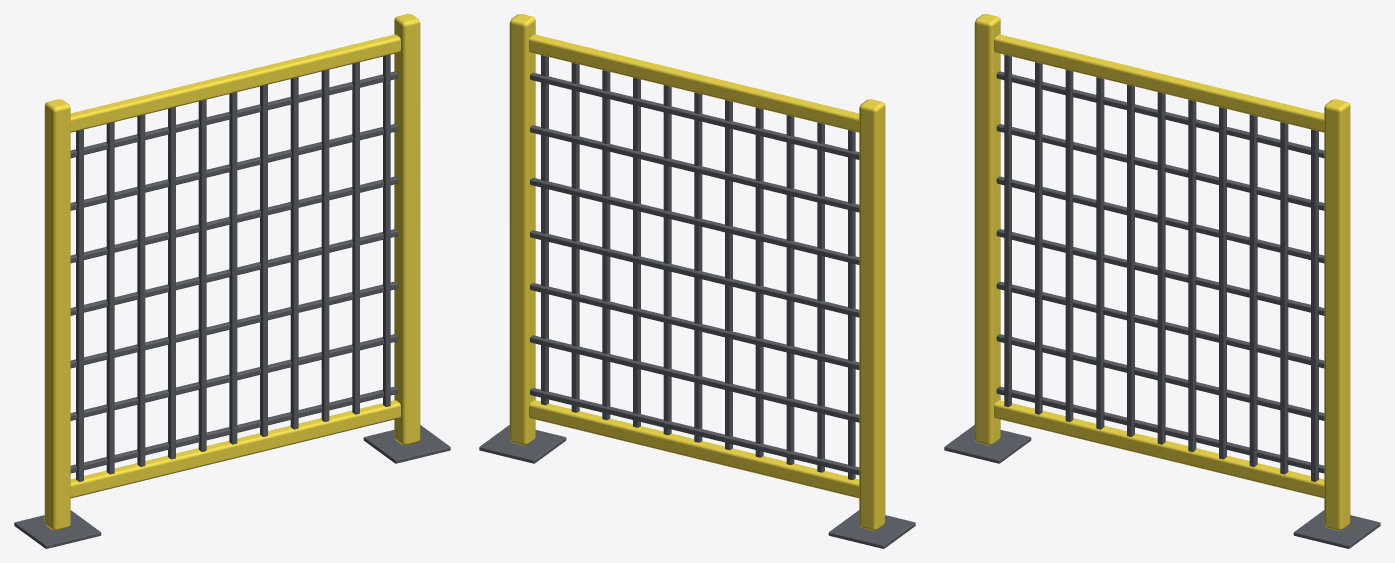
Rendered from robot-fence-panel.glb.
3 renders of one model, left to right at view 1: azimuth 30°, elevation 25°; view 2: azimuth 150°, elevation 25°; view 3: azimuth 330°, elevation 25°, orthographic.
Visible parts, largest first — view 1: robot-fence-panel; view 2: robot-fence-panel; view 3: robot-fence-panel.
Part boxes in pixels (box(x1,y1,x2,y2)): robot-fence-panel: box(14, 14, 450, 548); robot-fence-panel: box(479, 14, 915, 548); robot-fence-panel: box(944, 14, 1380, 548).
Size of the model in its own units: 2.18 by 2.2 by 0.2999.
